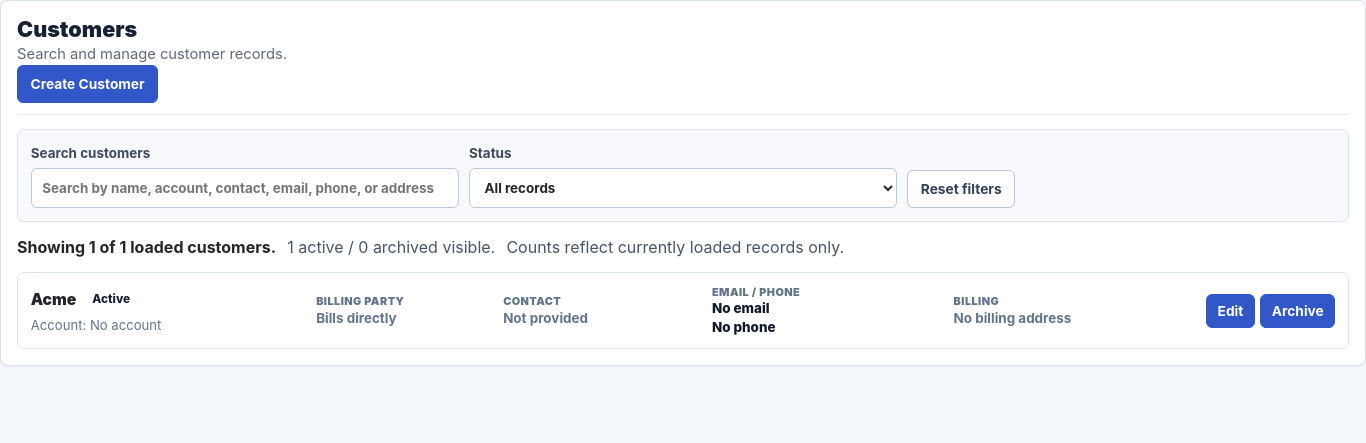
Test: MasterData archive confirmations › archives after the Manager/Admin confirms
Click the button "Archive" at (1298, 311), box top-left (1260, 294), bottom-right (1335, 328)
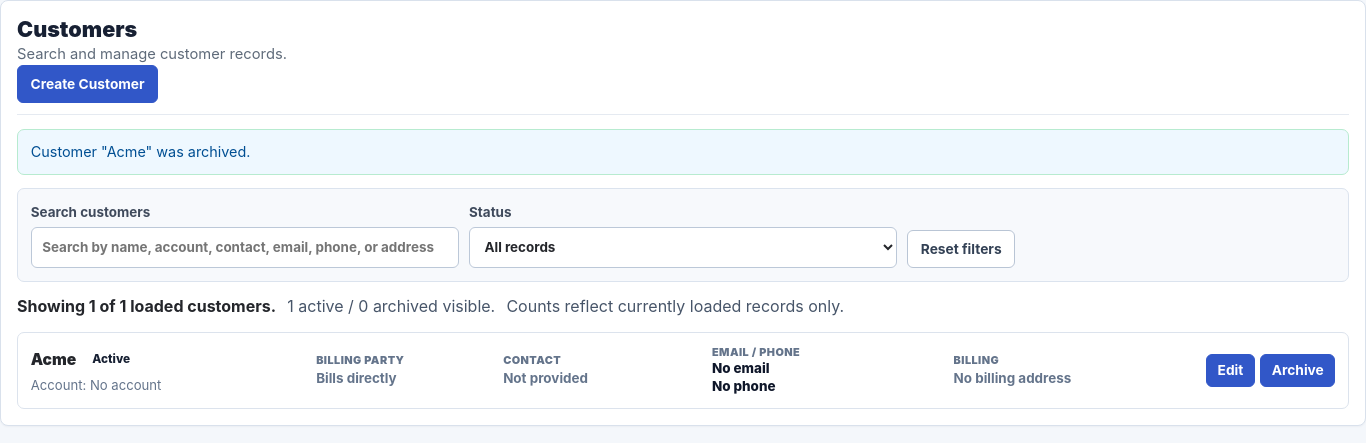
Now the text "Customer \"Acme\" was archived." is shown, box top-left (17, 129), bottom-right (1349, 175)
